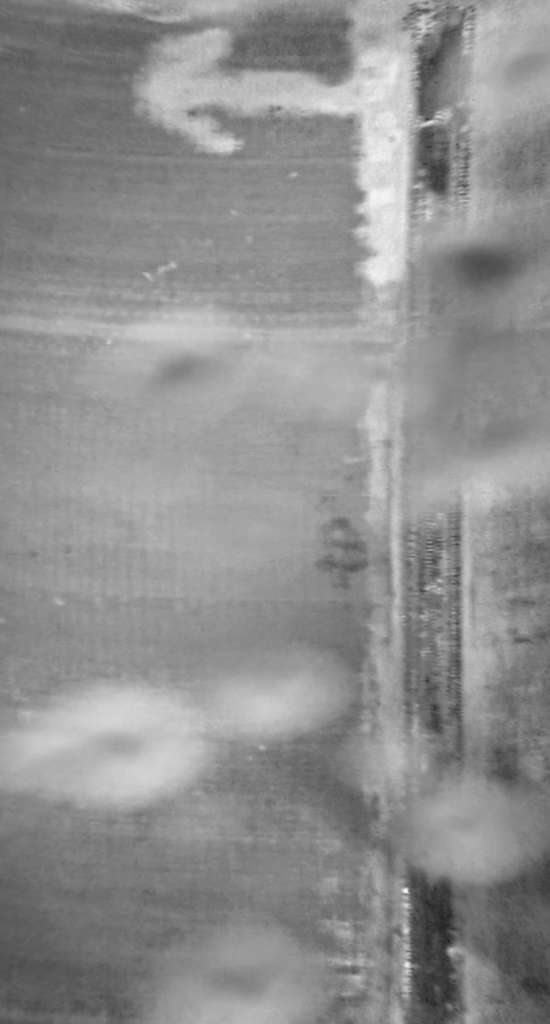splice: (397, 1, 479, 1024)
